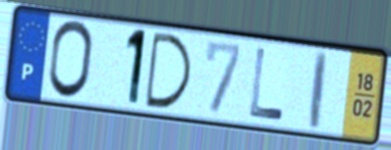1: (121, 26, 149, 111)
7: (203, 38, 244, 117)
D: (143, 29, 195, 112)
I: (308, 48, 330, 133)
L: (247, 45, 286, 123)
O: (45, 18, 96, 103)
